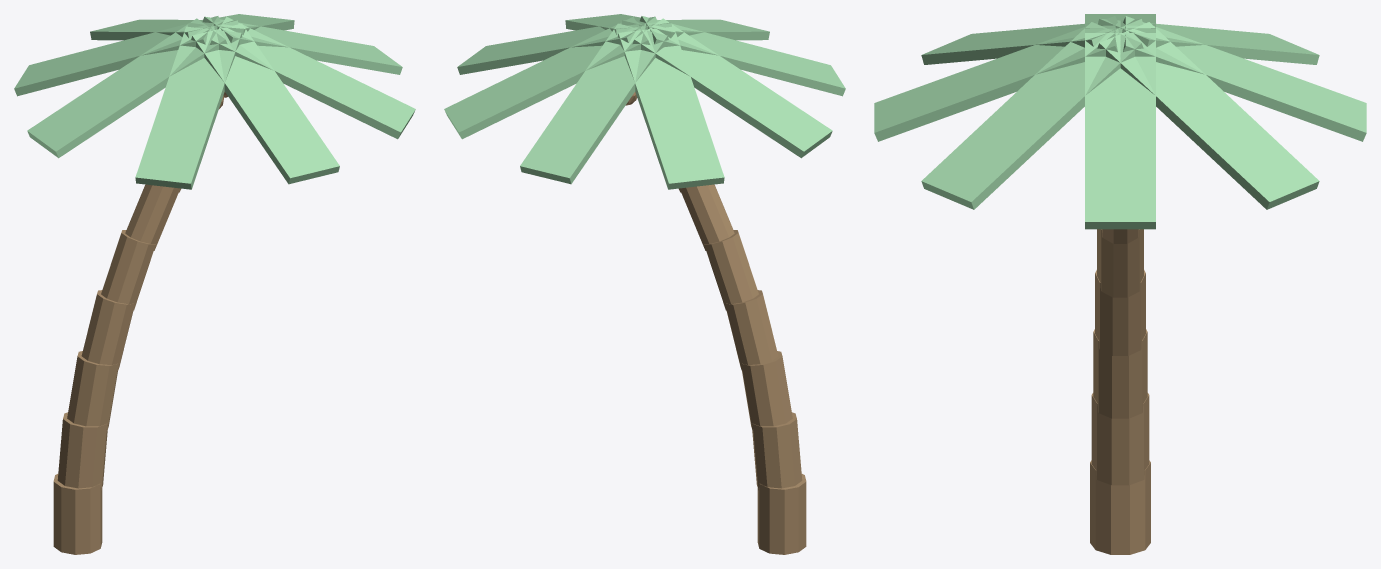
File: tree_palm.fbx
3 views of the same model, side by side, from view 1: azimuth 30°, elevation 25°; view 2: azimuth 150°, elevation 25°; view 3: azimuth 270°, elevation 25° (orthographic). The views are drawn at different scales.
Visible parts, largest first — view 1: Frond5, Frond6, Frond4, Frond7, Frond3, Trunk0, Frond0, Trunk1, Trunk2, Trunk3, Trunk4, Trunk5 (+2 smaller); view 2: Frond3, Frond2, Frond4, Frond1, Frond5, Trunk0, Frond0, Trunk1, Trunk2, Trunk3, Trunk4, Trunk5 (+2 smaller); view 3: Frond0, Frond7, Frond1, Frond2, Frond6, Trunk0, Trunk1, Frond3, Frond5, Trunk2, Trunk3, Trunk4 (+1 smaller).
Part boxes in pixels (x1,y1,x2,y2): Frond5: (135,26,242,189); Frond6: (191,23,339,184); Frond4: (27,18,227,158); Frond7: (209,17,415,139); Frond3: (14,16,220,96); Trunk0: (53,474,102,554); Frond0: (202,16,402,74); Trunk1: (57,412,107,490); Trunk2: (67,351,118,430); Trunk3: (81,290,134,370); Trunk4: (101,230,155,310); Trunk5: (125,184,180,250); Frond3: (617,26,724,189); Frond2: (520,23,668,184); Frond4: (632,18,832,158); Frond1: (444,17,650,139); Frond5: (639,16,845,96); Trunk0: (757,474,806,554); Frond0: (457,16,657,74); Trunk1: (752,412,802,490); Trunk2: (741,351,792,430); Trunk3: (725,290,778,370); Trunk4: (704,230,758,310); Trunk5: (679,184,734,250); Frond0: (1085,33,1155,229); Frond7: (921,22,1143,209); Frond1: (1097,22,1319,209); Frond2: (1123,16,1366,141); Frond6: (874,16,1117,141); Trunk0: (1090,460,1150,554); Trunk1: (1091,393,1149,485); Frond3: (1098,18,1319,64); Frond5: (921,18,1142,64); Trunk2: (1093,329,1147,418); Trunk3: (1095,270,1145,355); Trunk4: (1097,229,1143,297).
Bounding box in the file's own units: 4.18 × 5.56 × 4.18.
